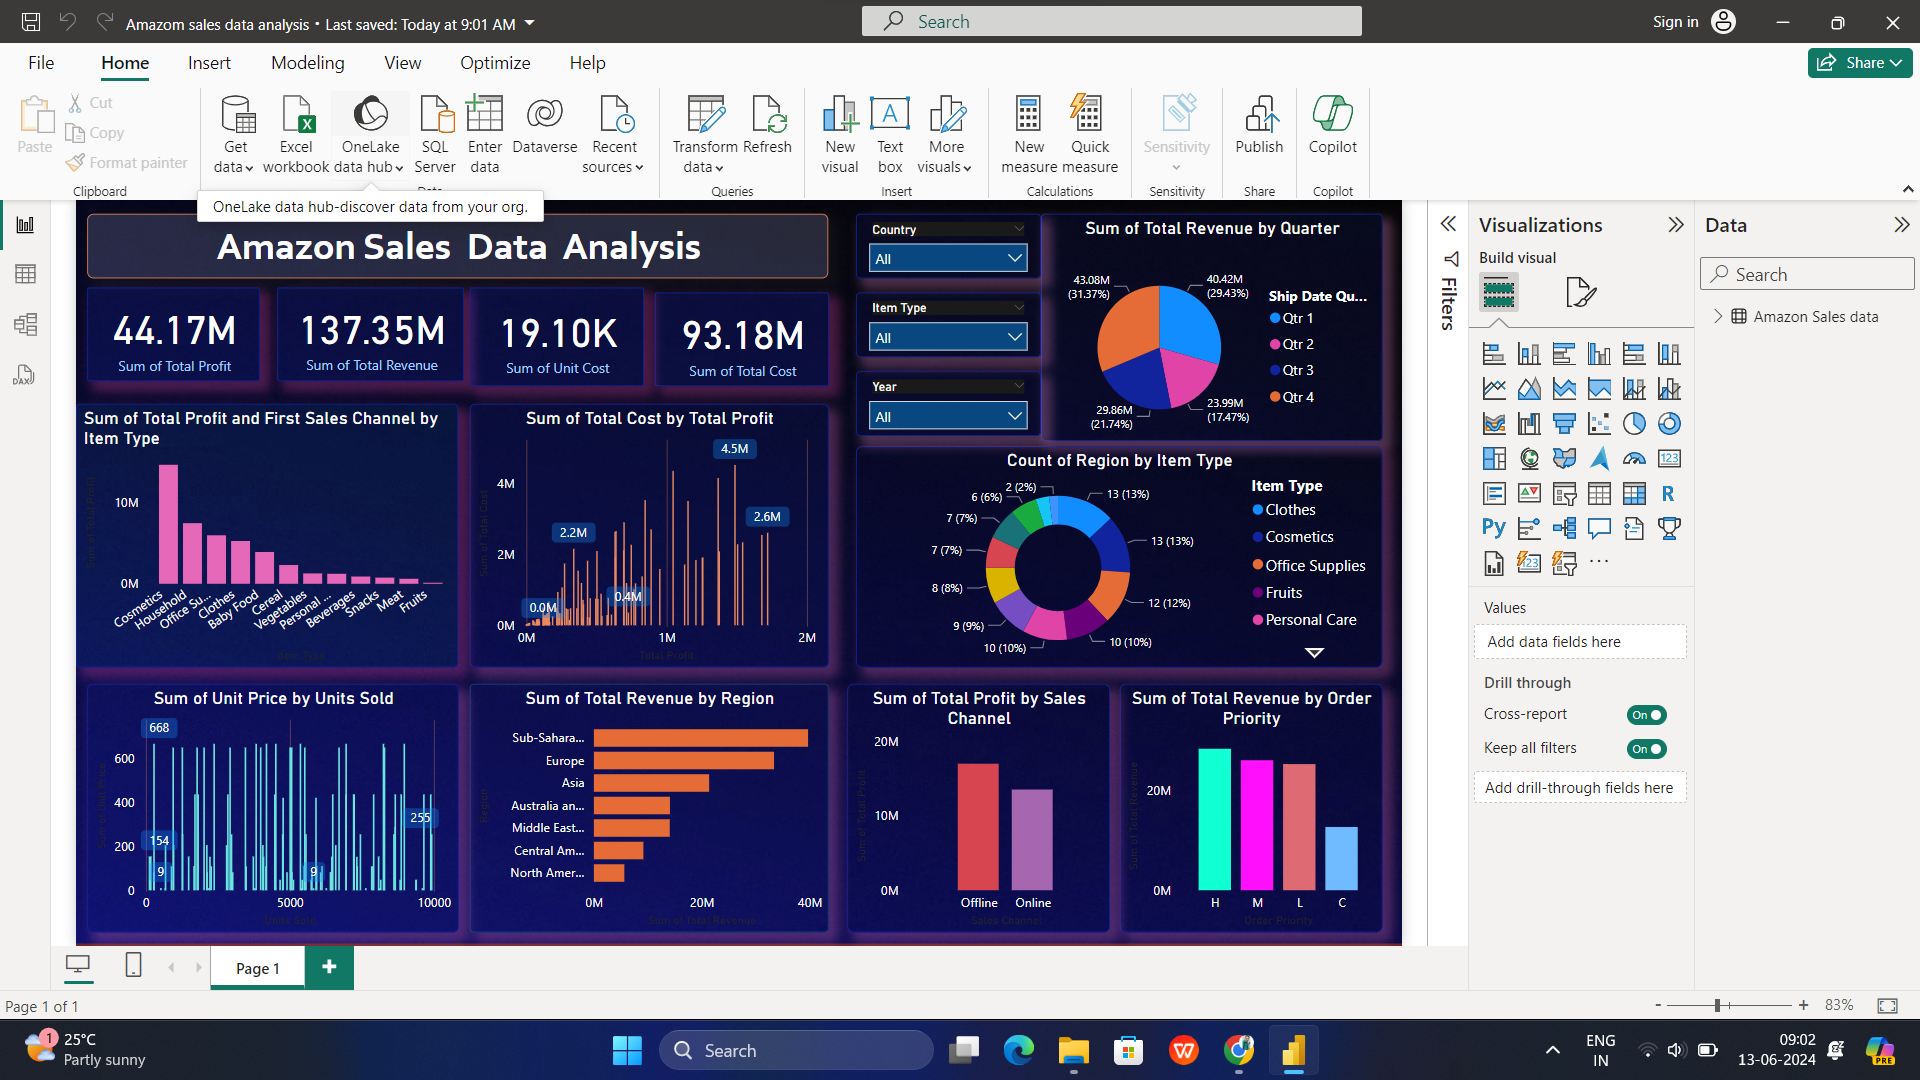

What the dashboard file says about the page in this screenshot:
{"tool":"powerbi","page":{"name":"Page 1","canvas":[1280,720],"ordinal":0},"visuals":[{"type":"lineClusteredColumnComboChart","fields":{"Category":["Amazon Sales data.Total Profit"],"Y":["Sum(Amazon Sales data.Total Cost)"]},"box":[380,196.6,346.2,254.6],"z":0},{"type":"pieChart","title":"Sum of Total Revenue by Quarter","fields":{"Y":["Sum(Amazon Sales data.Total Revenue)"],"Category":["Amazon Sales data.Ship Date.Variation.Date Hierarchy.Quarter"]},"box":[931.4,13.3,329.4,219.6],"z":1000},{"type":"textbox","box":[10.9,13.3,715.4,62.7],"z":2000},{"type":"barChart","fields":{"Category":["Amazon Sales data.Region"],"Y":["Sum(Amazon Sales data.Total Revenue)"]},"box":[380,466.9,346.2,240.1],"z":3000},{"type":"donutChart","fields":{"Category":["Amazon Sales data.Item Type"],"Y":["CountNonNull(Amazon Sales data.Region)"]},"box":[752.8,237.7,507.9,213.5],"z":4000},{"type":"card","fields":{"Values":["Sum(Amazon Sales data.Total Cost)"]},"box":[558.6,89.3,167.7,90.5],"z":5000},{"type":"card","fields":{"Values":["Sum(Amazon Sales data.Total Profit)"]},"box":[10.9,84.5,166.5,90.5],"z":6000},{"type":"card","fields":{"Values":["Sum(Amazon Sales data.Total Revenue)"]},"box":[194.2,84.5,179.8,90.5],"z":7000},{"type":"card","fields":{"Values":["Sum(Amazon Sales data.Unit Cost)"]},"box":[380,84.5,167.7,95.3],"z":8000},{"type":"clusteredColumnChart","fields":{"Category":["Amazon Sales data.Item Type"],"Y":["Sum(Amazon Sales data.Total Profit)"]},"box":[0,196.6,369.2,254.6],"z":9000},{"type":"clusteredColumnChart","fields":{"Category":["Amazon Sales data.Order Priority"],"Y":["Sum(Amazon Sales data.Total Revenue)"]},"box":[1007.4,466.9,253.4,240.1],"z":10000},{"type":"slicer","fields":{"Values":["Amazon Sales data.Country"]},"box":[752.8,13.3,178.6,62.7],"z":11000},{"type":"clusteredColumnChart","fields":{"Y":["Sum(Amazon Sales data.Total Profit)"],"Category":["Amazon Sales data.Sales Channel"]},"box":[744.4,466.9,253.4,240.1],"z":12000},{"type":"slicer","fields":{"Values":["Amazon Sales data.Item Type"]},"box":[752.8,89.3,178.6,62.7],"z":13000},{"type":"slicer","fields":{"Values":["Amazon Sales data.Ship Date.Variation.Date Hierarchy.Year"]},"box":[752.8,165.3,178.6,62.7],"z":14000},{"type":"lineStackedColumnComboChart","fields":{"Category":["Amazon Sales data.Units Sold"],"Y":["Sum(Amazon Sales data.Unit Price)"]},"box":[10.9,466.9,358.3,240.1],"z":15000}]}

Visuals, with their boxes on the page's 1280x720 design canvas (x1, y1, x2, y2). These are canvas units, not pixel positions in the 1920x1080 screenshot, which may show the page scaled, cropped or inside an application window:
lineClusteredColumnComboChart - Amazon Sales data.Total Profit x Sum(Amazon Sales data.Total Cost): <bbox>380, 197, 726, 451</bbox>
"Sum of Total Revenue by Quarter" pieChart: <bbox>931, 13, 1261, 233</bbox>
textbox: <bbox>11, 13, 726, 76</bbox>
barChart - Amazon Sales data.Region x Sum(Amazon Sales data.Total Revenue): <bbox>380, 467, 726, 707</bbox>
donutChart - Amazon Sales data.Item Type x CountNonNull(Amazon Sales data.Region): <bbox>753, 238, 1261, 451</bbox>
card - Sum(Amazon Sales data.Total Cost): <bbox>559, 89, 726, 180</bbox>
card - Sum(Amazon Sales data.Total Profit): <bbox>11, 84, 177, 175</bbox>
card - Sum(Amazon Sales data.Total Revenue): <bbox>194, 84, 374, 175</bbox>
card - Sum(Amazon Sales data.Unit Cost): <bbox>380, 84, 548, 180</bbox>
clusteredColumnChart - Amazon Sales data.Item Type x Sum(Amazon Sales data.Total Profit): <bbox>0, 197, 369, 451</bbox>
clusteredColumnChart - Amazon Sales data.Order Priority x Sum(Amazon Sales data.Total Revenue): <bbox>1007, 467, 1261, 707</bbox>
slicer - Amazon Sales data.Country: <bbox>753, 13, 931, 76</bbox>
clusteredColumnChart - Sum(Amazon Sales data.Total Profit) x Amazon Sales data.Sales Channel: <bbox>744, 467, 998, 707</bbox>
slicer - Amazon Sales data.Item Type: <bbox>753, 89, 931, 152</bbox>
slicer - Amazon Sales data.Ship Date.Variation.Date Hierarchy.Year: <bbox>753, 165, 931, 228</bbox>
lineStackedColumnComboChart - Amazon Sales data.Units Sold x Sum(Amazon Sales data.Unit Price): <bbox>11, 467, 369, 707</bbox>
